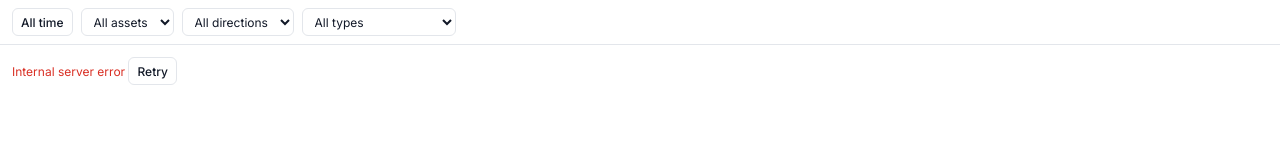
Test case: errors render inline with retry
Expected: the text "Internal server error Retry" is shown, [12,57,177,85]
What coordinates should you click on to do the following:
click the button "Retry"
I would click on:
 (153, 71)
Its box is [128,57,177,85].
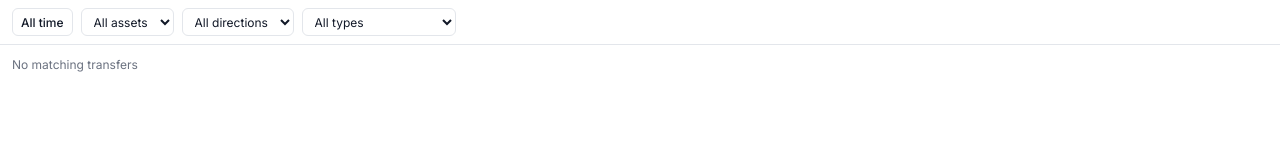
Expected: the text "No matching transfers" is shown, [12,57,138,72]
